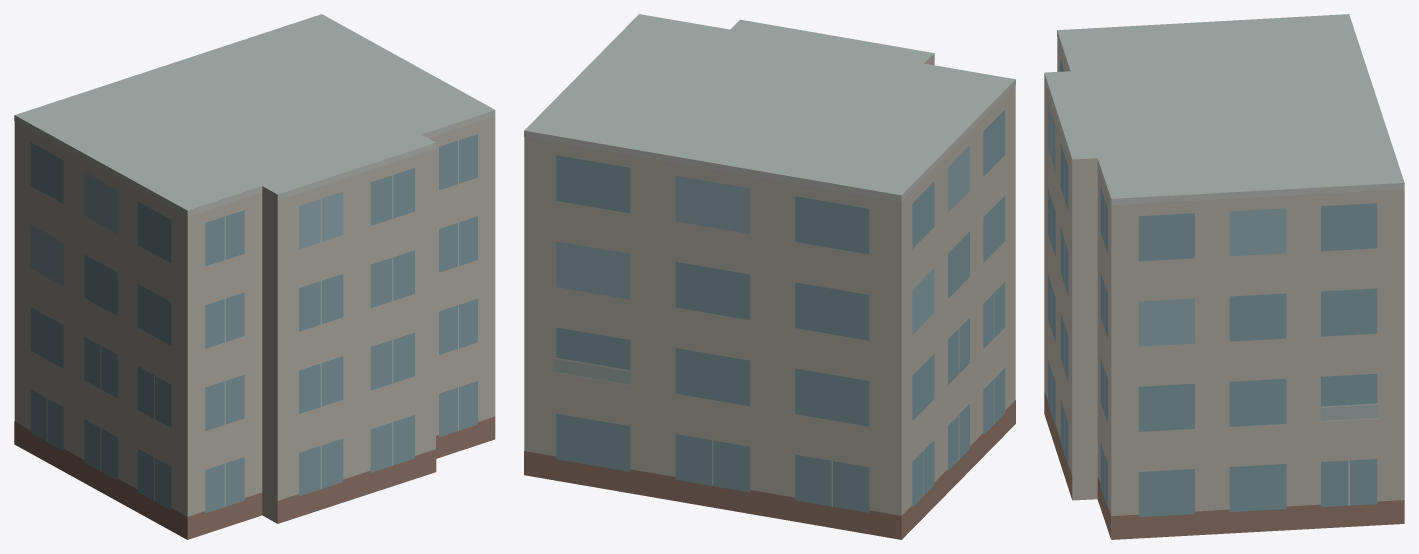
File: survey-upis-32693130.glb
The picture shows the model from 3 angles, left to right: view 1: azimuth 30°, elevation 25°; view 2: azimuth 150°, elevation 25°; view 3: azimuth 270°, elevation 25°; orthographic projection. The views are drawn at different scales.
Visible parts, largest first — view 1: survey-upis-32693130.tmp; view 2: survey-upis-32693130.tmp; view 3: survey-upis-32693130.tmp.
Part boxes in pixels (<box>): survey-upis-32693130.tmp: <box>14,14,495,539</box>; survey-upis-32693130.tmp: <box>524,14,1015,539</box>; survey-upis-32693130.tmp: <box>1044,14,1404,539</box>.
Size of the model in its own units: 15.36 by 13.2 by 12.65.
